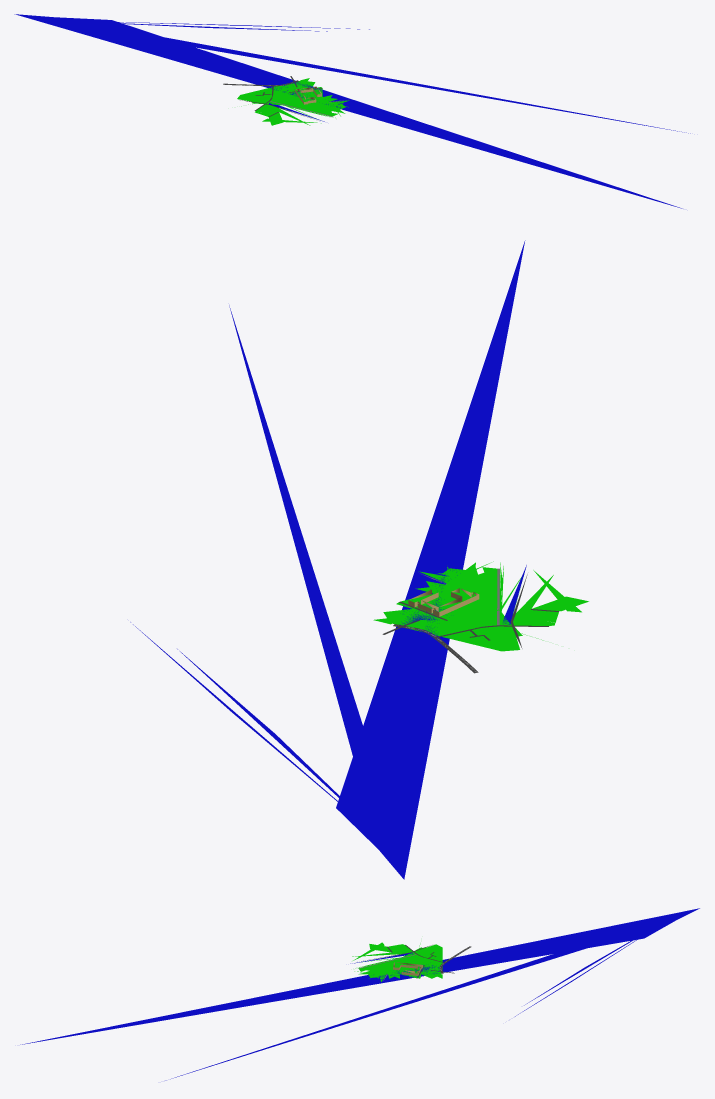
3 renders of one model, top to bottom at view 1: azimuth 30°, elevation 25°; view 2: azimuth 150°, elevation 25°; view 3: azimuth 270°, elevation 25°, orthographic. The views are drawn at different scales.
Bounding box in the file's own units: 1180 × 7.5 × 1937.
